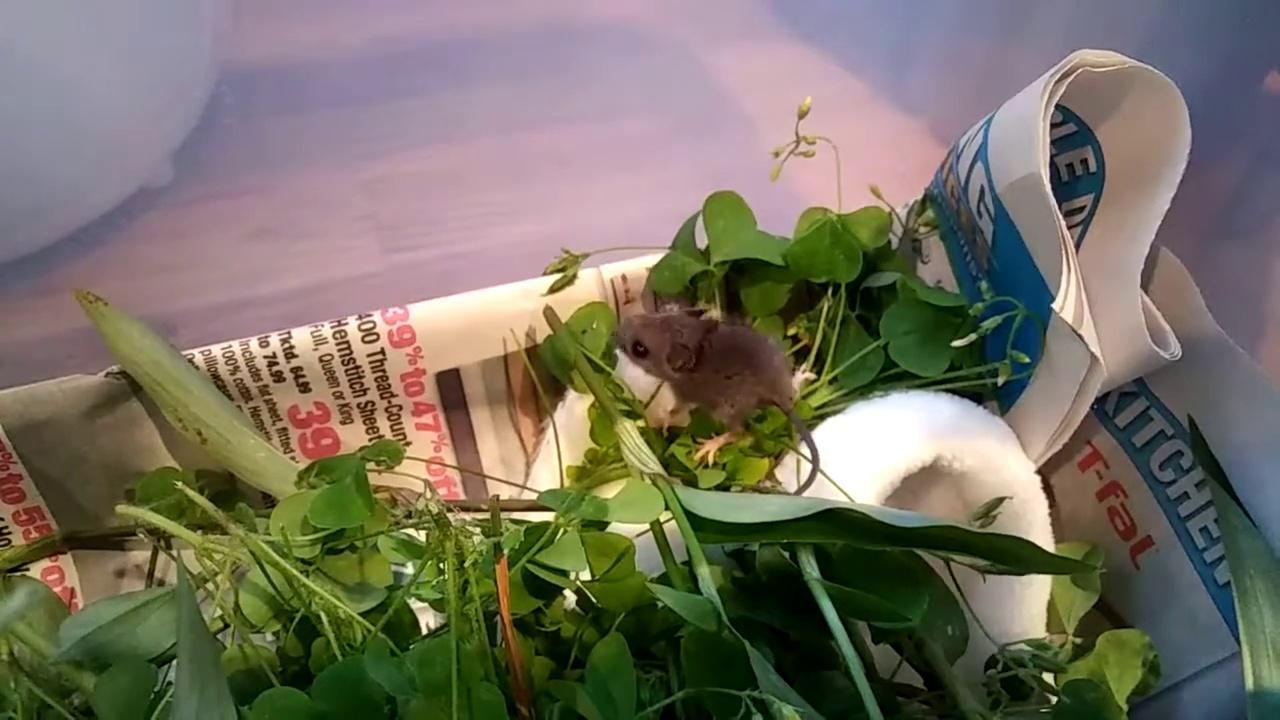rat: (616, 312, 818, 494)
